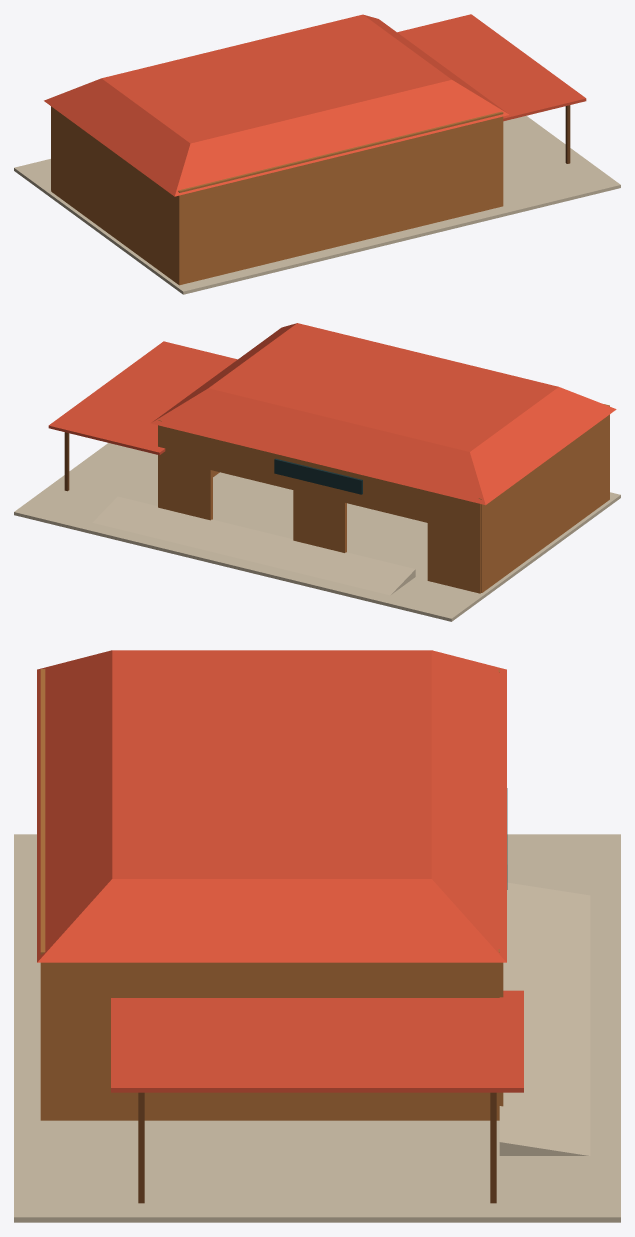
Rendered from feed_warehouse.fbx.
3 views of the same model, one above another, from view 1: azimuth 30°, elevation 25°; view 2: azimuth 150°, elevation 25°; view 3: azimuth 270°, elevation 25° (orthographic). The views are drawn at different scales.
Parts seen in each view (by area): view 1: feed_warehouse; view 2: feed_warehouse; view 3: feed_warehouse.
Part boxes in pixels (x1,y1,x2,y2): feed_warehouse: [14, 14, 620, 294]; feed_warehouse: [14, 323, 620, 621]; feed_warehouse: [14, 650, 620, 1222].
Bounding box in the file's own units: 30 × 8 × 20.
